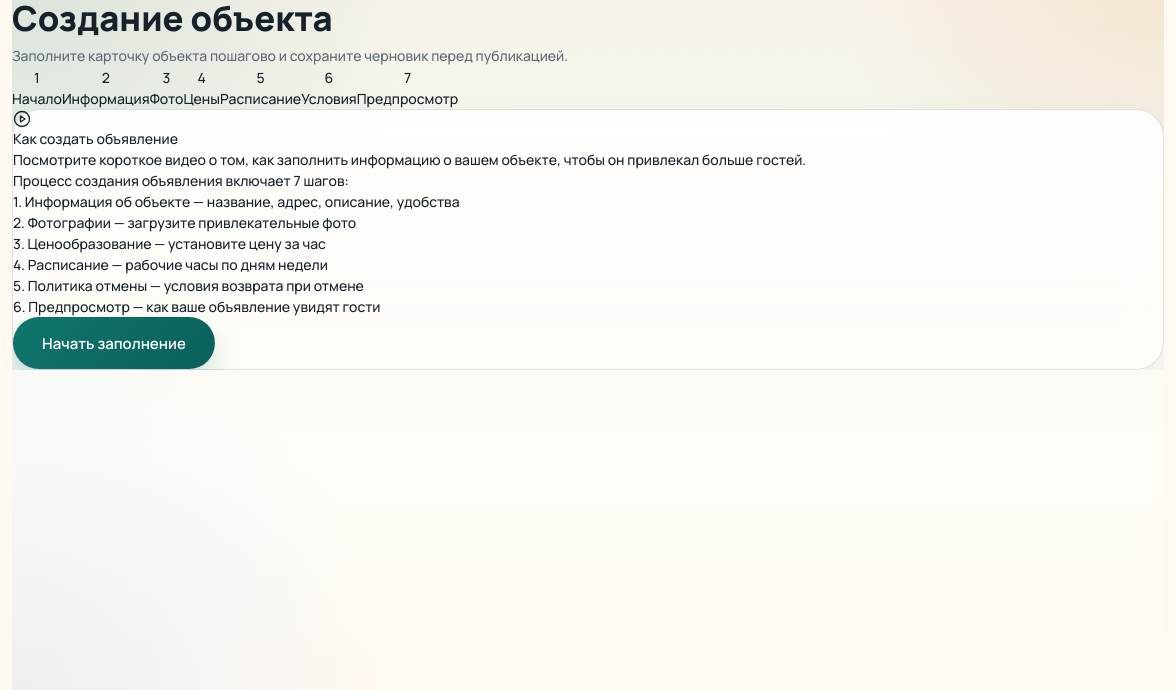
Test: BathhouseForm › wizard steps › navigates to object info step when clicking "Начать заполнение"
Click the button "Начать заполнение" at (114, 343), box x1=13 y1=317 x2=215 y2=369
(page scrolled)
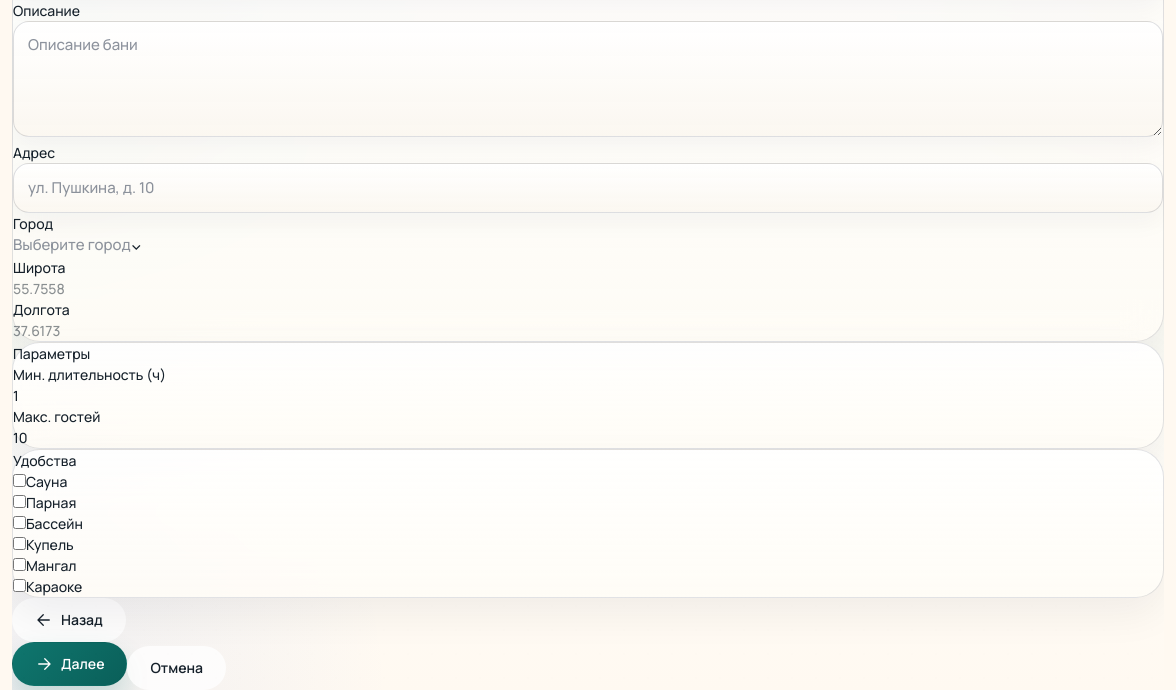
Expected: the text "Удобства" is shown, x1=13 y1=451 x2=76 y2=470
Expected: the text "Параметры" is shown, x1=13 y1=344 x2=90 y2=363
